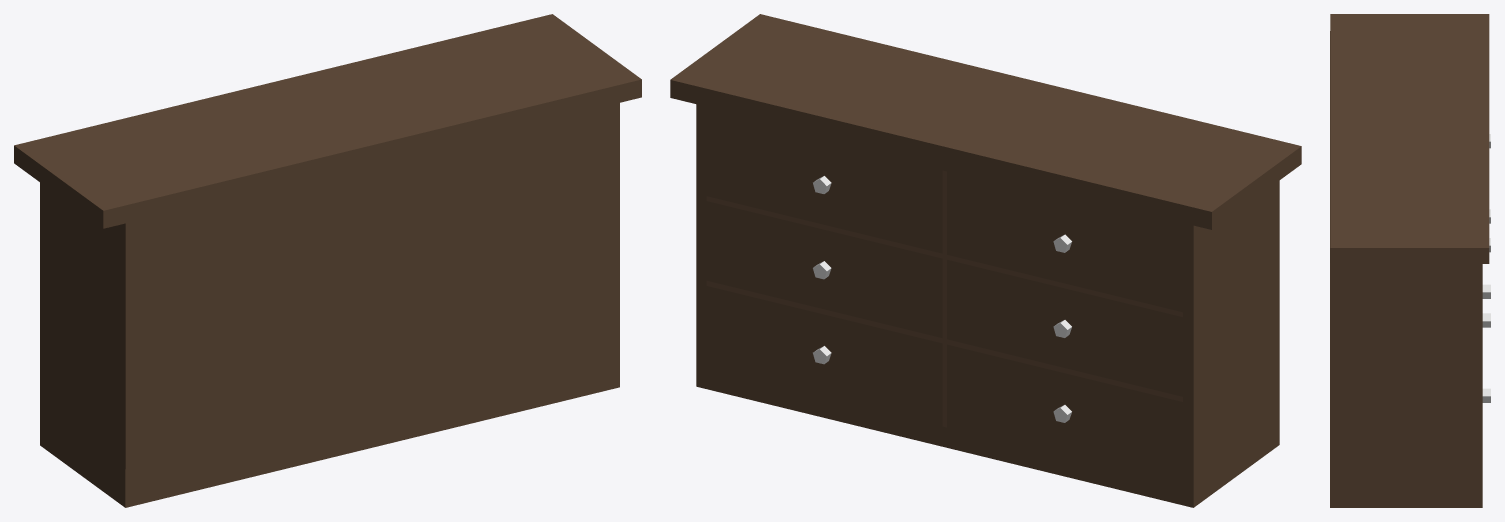
The model's file is nighttable.fbx.
3 renders of one model, left to right at view 1: azimuth 30°, elevation 25°; view 2: azimuth 150°, elevation 25°; view 3: azimuth 270°, elevation 25°, orthographic. The views are drawn at different scales.
Parts seen in each view (by area): view 1: BigDrawer; view 2: BigDrawer; view 3: BigDrawer.
Boxes of the visible parts, x1=… form: BigDrawer: x1=14, y1=14, x2=641, y2=507; BigDrawer: x1=670, y1=14, x2=1301, y2=507; BigDrawer: x1=1330, y1=14, x2=1490, y2=507.
Size of the model in its own units: 516 by 277 by 150.
